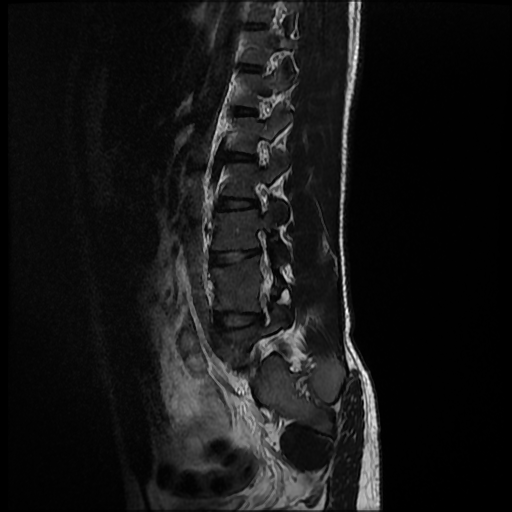LFS0: (245, 175, 276, 228), (246, 130, 275, 173)
